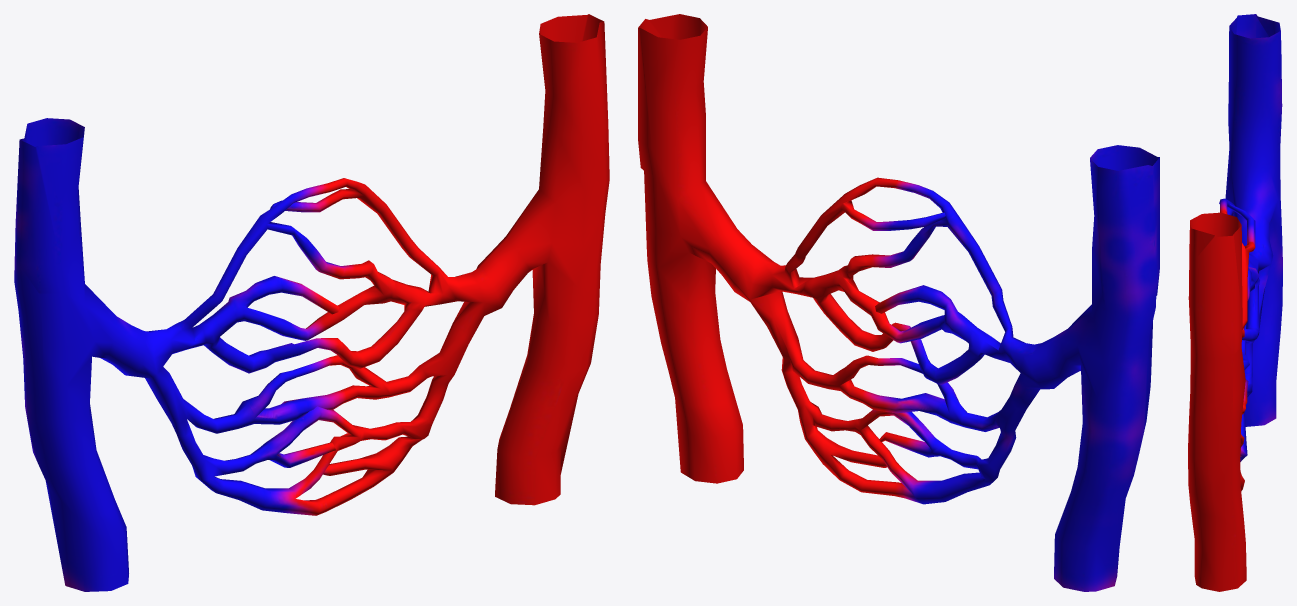
File: BLOOD CAPALLARIS.fbx
3 views of the same model, side by side, from view 1: azimuth 30°, elevation 25°; view 2: azimuth 150°, elevation 25°; view 3: azimuth 270°, elevation 25° (orthographic). The views are drawn at different scales.
Visible parts, largest first — view 1: BLOOD_CAPALLARIS; view 2: BLOOD_CAPALLARIS; view 3: BLOOD_CAPALLARIS.
Boxes of the visible parts, x1,y1,x2,y2 form: BLOOD_CAPALLARIS: (14, 14, 609, 591); BLOOD_CAPALLARIS: (638, 14, 1159, 591); BLOOD_CAPALLARIS: (1188, 14, 1282, 591).
Bounding box in the file's own units: 463 × 356 × 82.29.
Materials: 1 (1 with a texture image).
